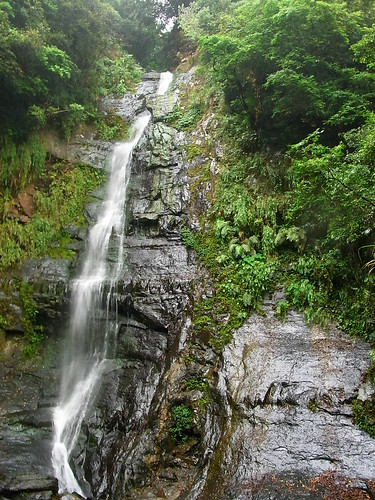wufengciWaterfall: (21, 60, 203, 487)
